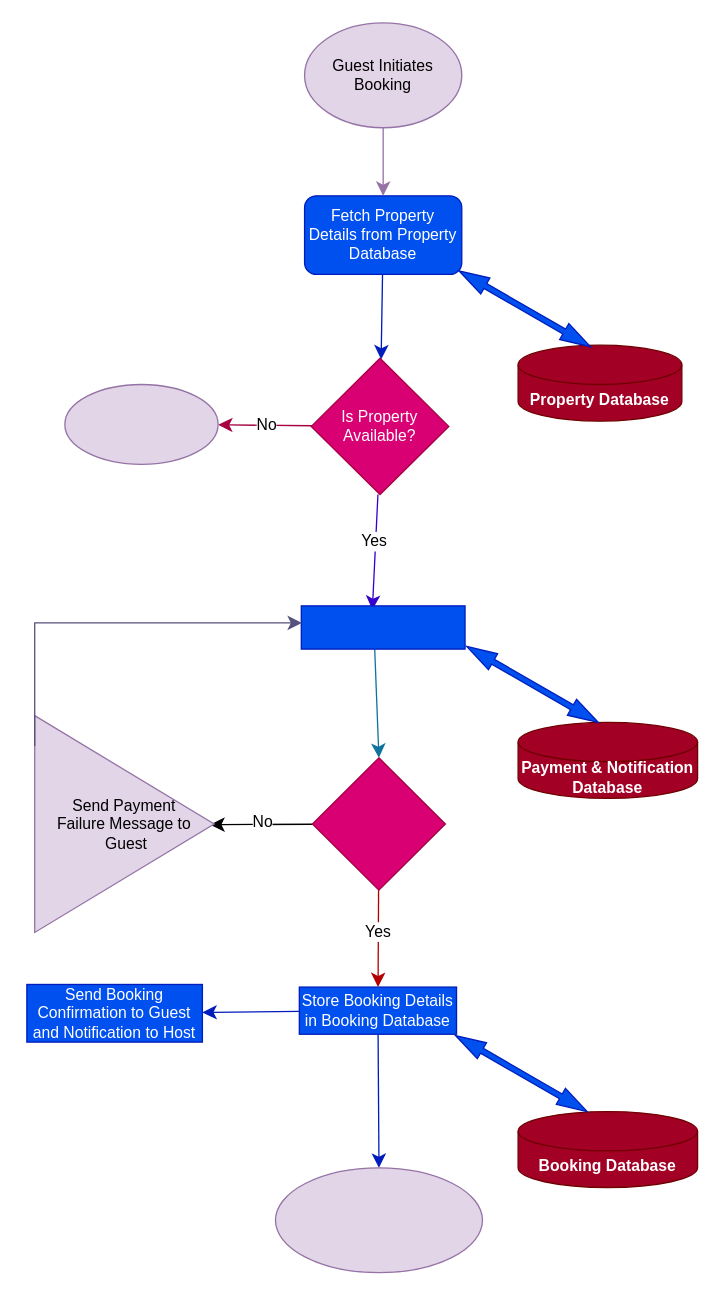
The diagram is 720 pixels wide and 1296 high, and some of its shapes have lost their labels. The box of each missing label's shape, as (x1, y1, x2, y2) in pixels:
Booking Process Complete: (274, 1167, 482, 1273)
Is Payment Successful?: (311, 757, 445, 890)
Process Payment: (300, 605, 465, 649)
Send Unavailability Message to Guest: (64, 383, 218, 464)
